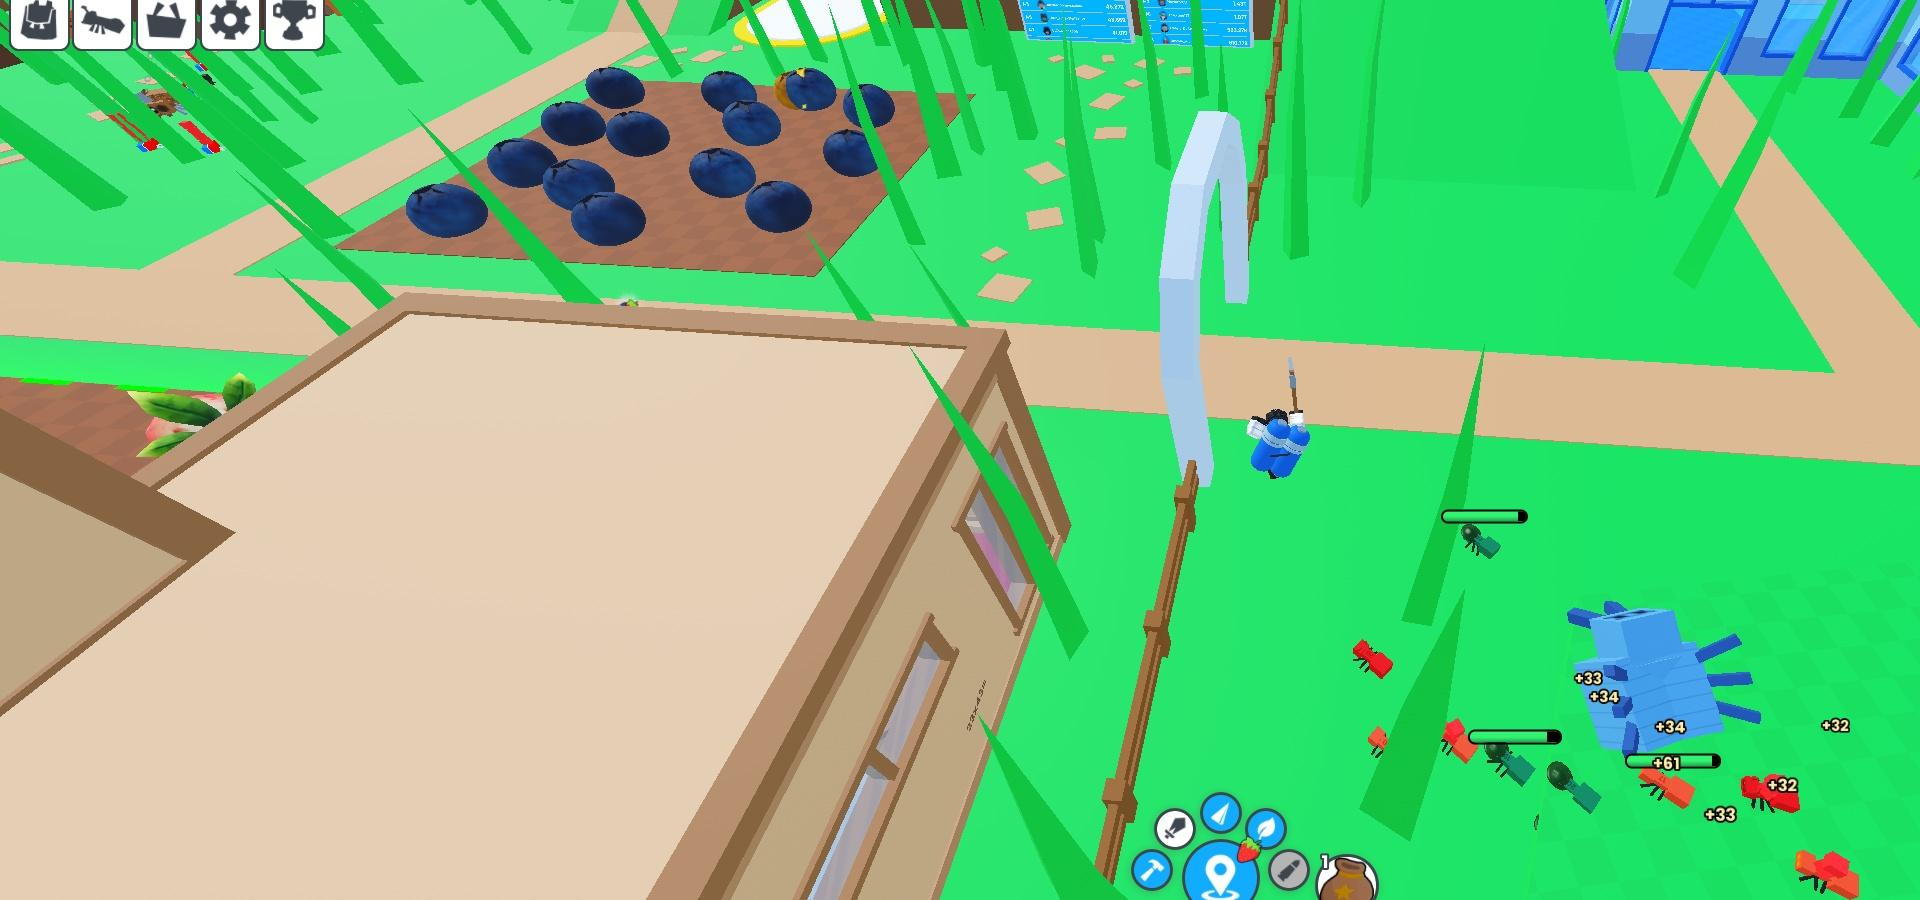Enemy: (1552, 589, 1770, 771)
